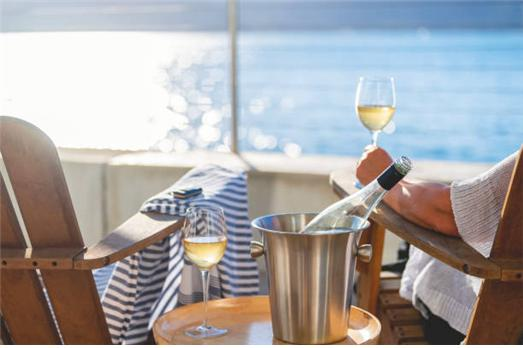alcohol: (293, 157, 412, 236), (180, 202, 230, 337), (353, 73, 396, 151)
